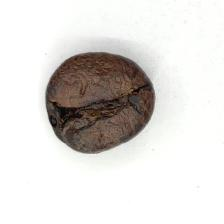NG: (46, 77, 146, 139)
